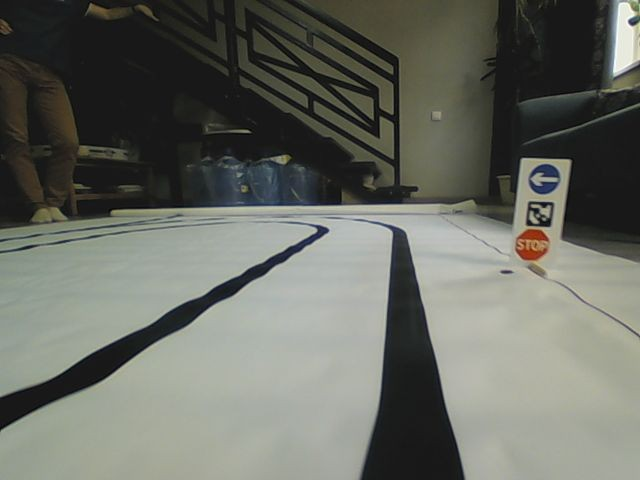Stop: (515, 228, 550, 261)
